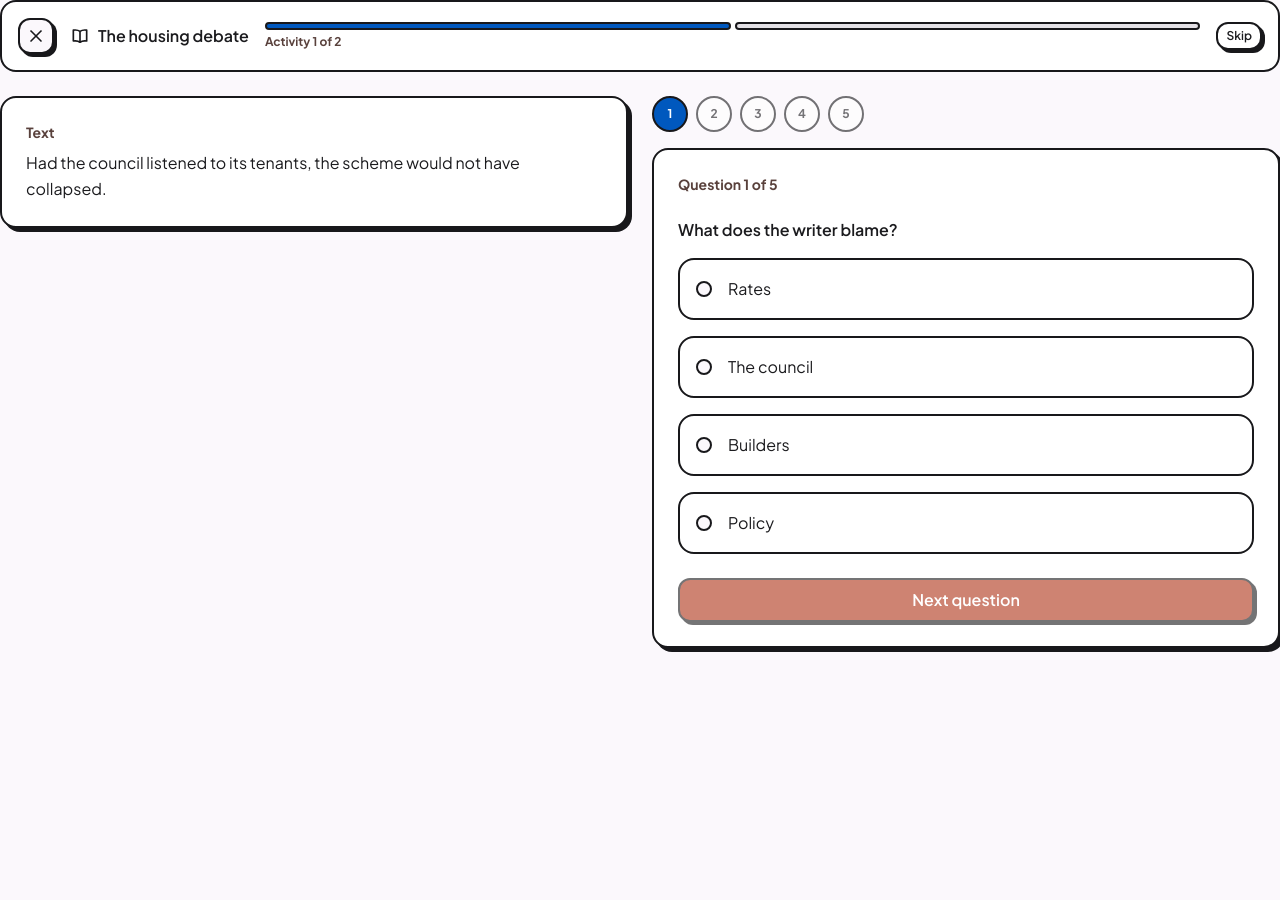
Test case: ObjectiveRunner: submitting › a_skip_made_elsewhere_ends_on_the_skipped_state
Expected: the element showing "Rates The council Builders Policy" is shown, left=678, top=258, right=1254, bottom=554
Click the radio button labelled "The council" at (771, 366), box left=678, top=336, right=1254, bottom=398
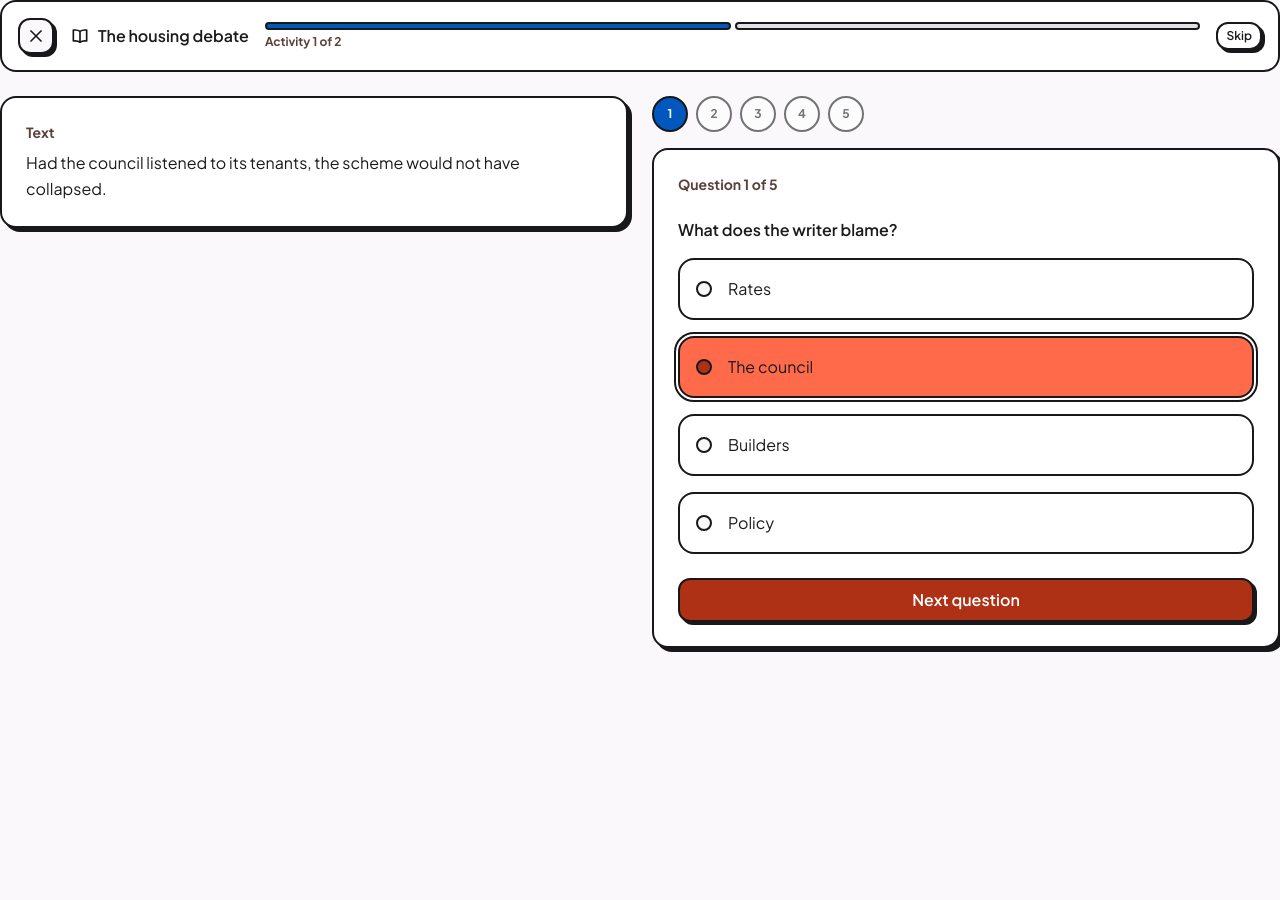
Click the button "Next question" at (966, 600), box left=678, top=578, right=1254, bottom=622
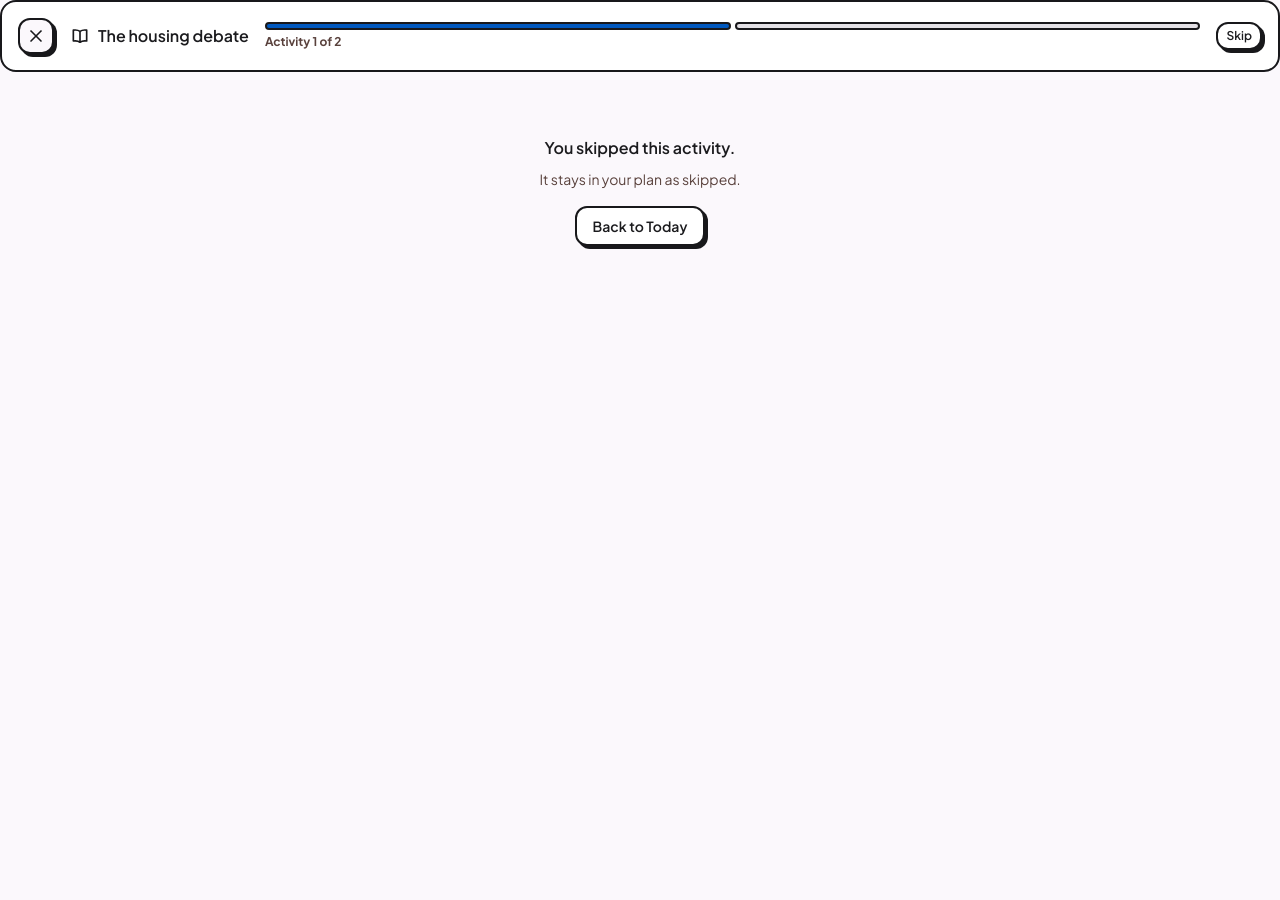
Expected: the text "You skipped this activity." is shown, left=545, top=136, right=735, bottom=160
